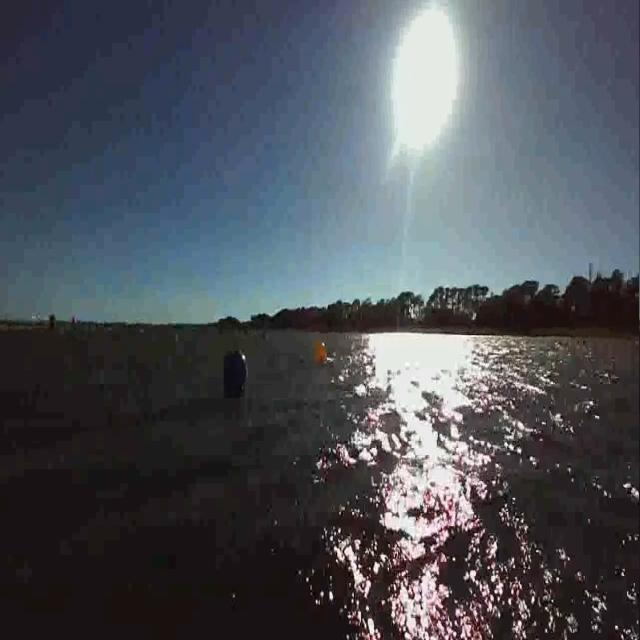blue-buoy: (220, 349, 250, 399)
yellow-buoy: (315, 342, 327, 368)
